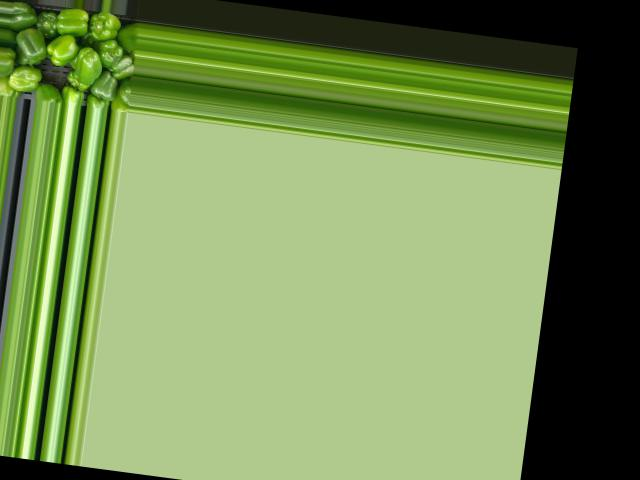bell_pepper: (115, 27, 140, 57)
